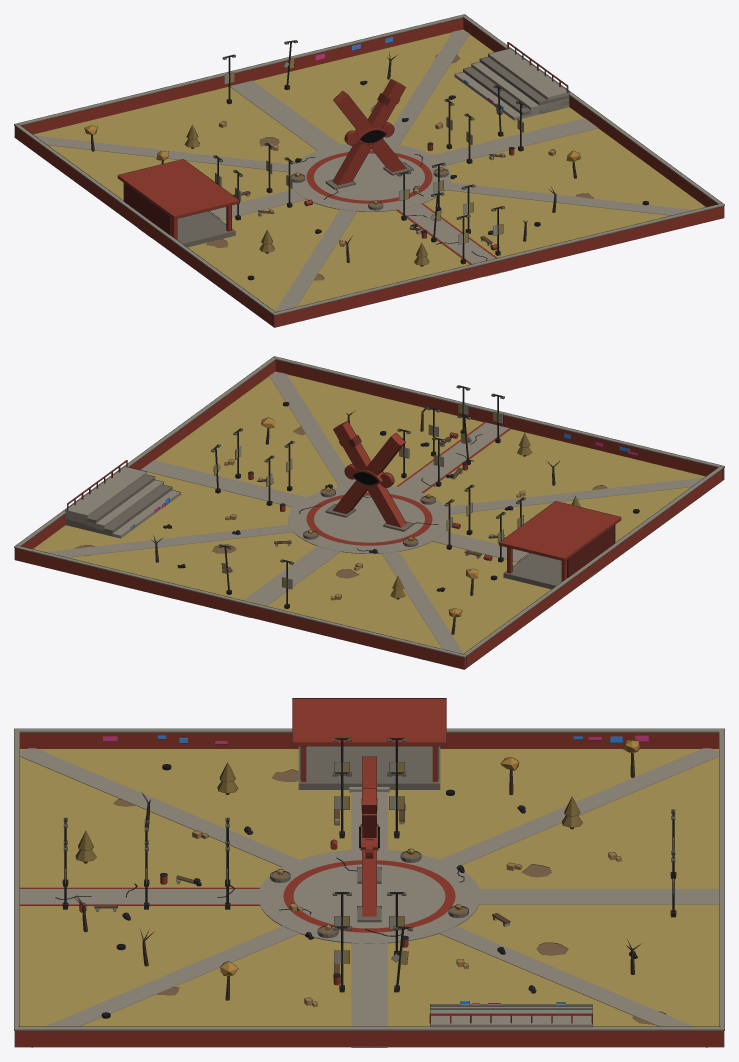
Rendered from Plaza_Deteriorada.fbx.
3 views of the same model, one above another, from view 1: azimuth 30°, elevation 25°; view 2: azimuth 150°, elevation 25°; view 3: azimuth 270°, elevation 25° (orthographic). The views are drawn at different scales.
Visible parts, largest first — view 1: Deteriorada_Suelo, Deteriorada_Estructuras, Deteriorada_Decoracion, Deteriorada_Monumento; view 2: Deteriorada_Suelo, Deteriorada_Estructuras, Deteriorada_Decoracion, Deteriorada_Monumento; view 3: Deteriorada_Suelo, Deteriorada_Estructuras, Deteriorada_Decoracion, Deteriorada_Monumento.
Part boxes in pixels (x1,y1,x2,y2): Deteriorada_Suelo: [33, 29, 705, 325]; Deteriorada_Estructuras: [14, 14, 724, 327]; Deteriorada_Decoracion: [84, 37, 648, 280]; Deteriorada_Monumento: [325, 79, 413, 189]; Deteriorada_Suelo: [33, 371, 705, 667]; Deteriorada_Estructuras: [14, 356, 724, 669]; Deteriorada_Decoracion: [74, 385, 639, 634]; Deteriorada_Monumento: [325, 421, 413, 531]; Deteriorada_Suelo: [20, 748, 718, 1047]; Deteriorada_Estructuras: [14, 698, 724, 1047]; Deteriorada_Decoracion: [55, 735, 676, 1024]; Deteriorada_Monumento: [357, 756, 381, 922].
Size of the model in its own units: 70.18 by 14.43 by 70.18.
2 materials, 1 textured.
